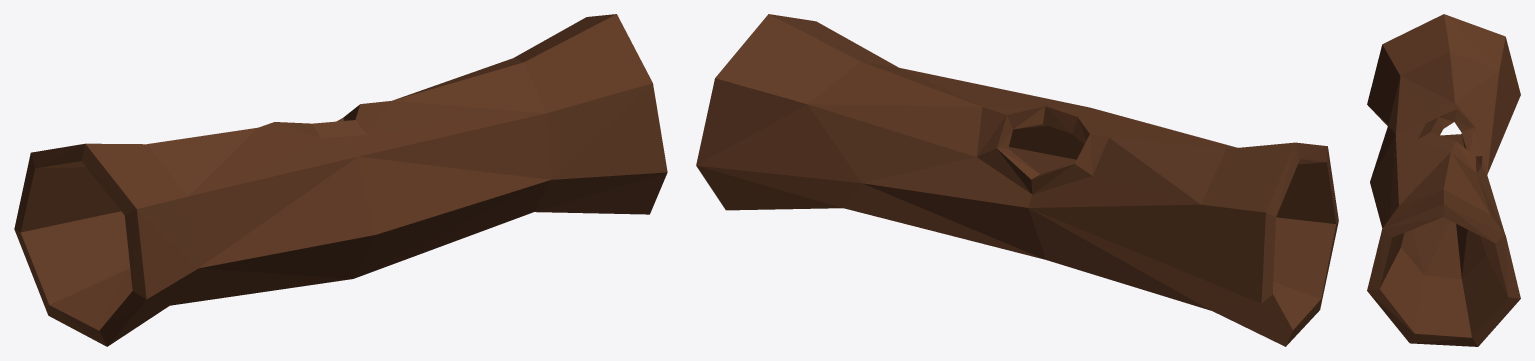
Rendered from FallenLog3.fbx.
3 views of the same model, side by side, from view 1: azimuth 30°, elevation 25°; view 2: azimuth 150°, elevation 25°; view 3: azimuth 270°, elevation 25° (orthographic). The views are drawn at different scales.
Visible parts, largest first — view 1: FallenLog3; view 2: FallenLog3; view 3: FallenLog3.
Boxes of the visible parts, box(x1,y1,x2,y2) form: FallenLog3: box(14, 14, 667, 346); FallenLog3: box(696, 14, 1338, 346); FallenLog3: box(1367, 14, 1520, 346).
Bounding box in the file's own units: 220 × 67.58 × 69.32.
